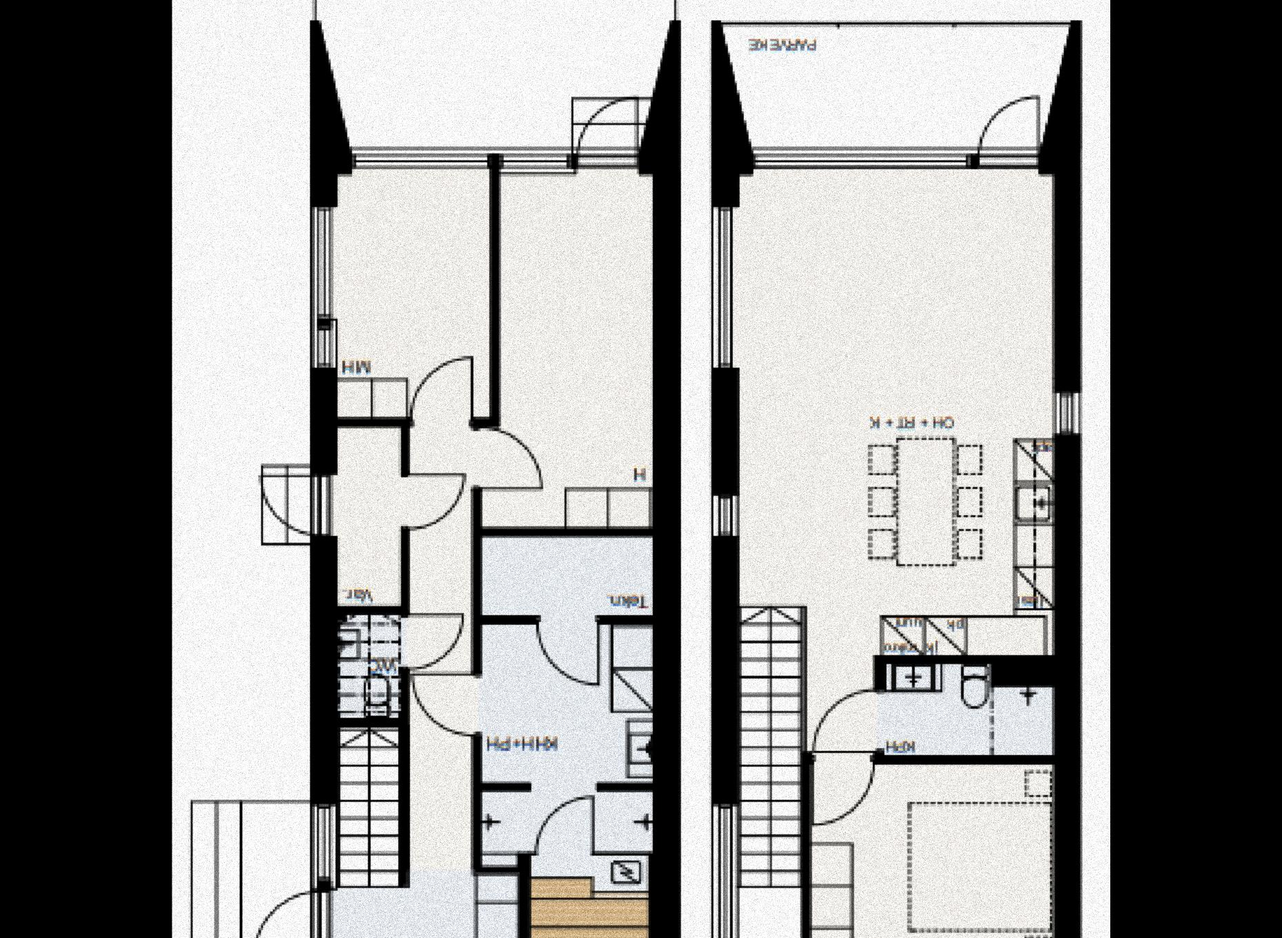door: (805, 686, 879, 830), (406, 353, 477, 427), (403, 467, 472, 541), (263, 470, 334, 538), (573, 85, 645, 152), (974, 95, 1041, 167), (408, 672, 479, 738), (482, 428, 554, 492), (250, 884, 332, 938), (539, 620, 600, 689), (403, 608, 463, 670), (539, 794, 594, 855)
window: (706, 205, 741, 368), (710, 801, 738, 938), (313, 203, 334, 366), (314, 804, 341, 886), (1050, 391, 1085, 442), (714, 492, 741, 539)
zone: (741, 161, 1057, 938), (335, 166, 493, 612), (484, 161, 653, 525), (477, 622, 655, 938), (323, 0, 677, 149), (730, 20, 1083, 152), (328, 674, 475, 938), (189, 799, 311, 938), (481, 531, 656, 618), (334, 420, 403, 603)
